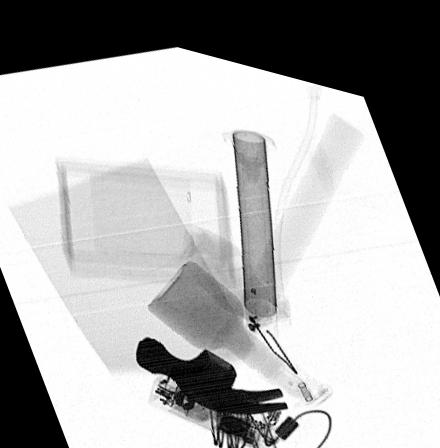Hammer: (133, 94, 365, 403)
